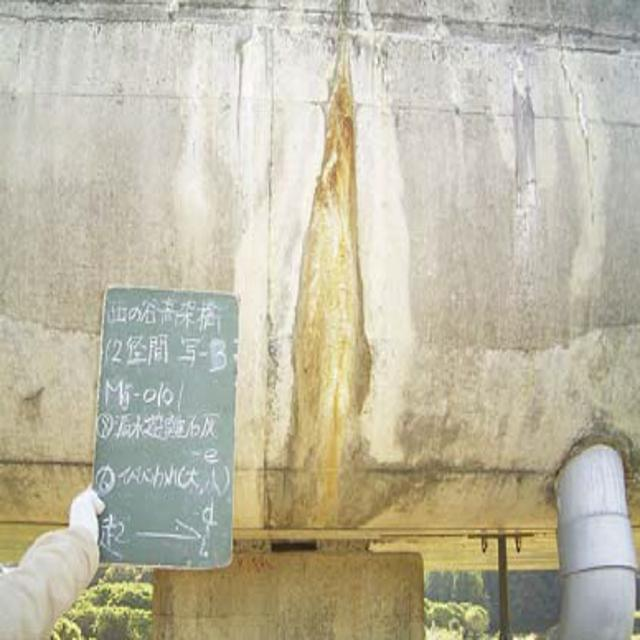freelime: (263, 54, 381, 533)
